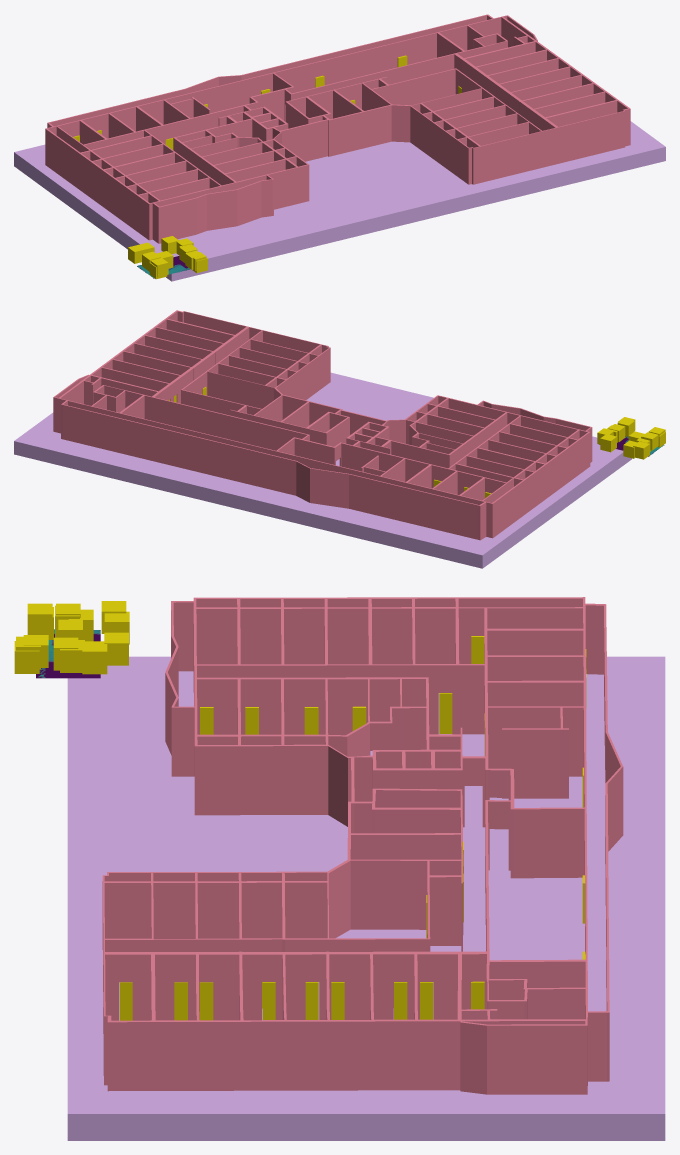
The model's file is output_scene_with_3d_mesh.glb.
The picture shows the model from 3 angles, top to bottom: view 1: azimuth 30°, elevation 25°; view 2: azimuth 150°, elevation 25°; view 3: azimuth 270°, elevation 25°; orthographic projection. The views are drawn at different scales.
Parts seen in each view (by area): view 1: Ground.004, Ground.003, Ground.002; view 2: Ground.004, Ground.003; view 3: Ground.004, Ground.003, Ground.002, Cube_14, Cube_13, Cube_8.
Part boxes in pixels (box(x1,y1,x2,y2)): Ground.004: box(45, 14, 630, 243); Ground.003: box(14, 121, 665, 281); Ground.002: box(73, 55, 461, 149); Ground.004: box(53, 310, 592, 540); Ground.003: box(14, 372, 631, 568); Ground.004: box(102, 597, 623, 1094); Ground.003: box(67, 656, 665, 1140); Ground.002: box(119, 636, 586, 1020); Cube_14: box(82, 641, 107, 674); Cube_13: box(27, 603, 52, 636); Cube_8: box(104, 632, 128, 665).
Bounding box in the file's own units: 691 × 63.91 × 393.
